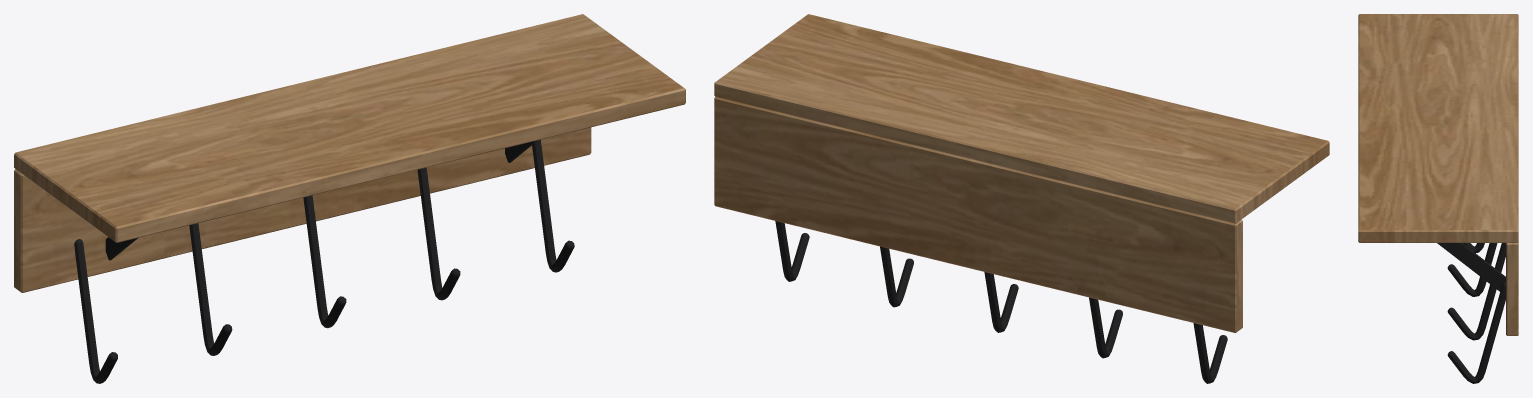
File: perchero_pared_80.glb
3 views of the same model, side by side, from view 1: azimuth 30°, elevation 25°; view 2: azimuth 150°, elevation 25°; view 3: azimuth 270°, elevation 25° (orthographic). The views are drawn at different scales.
Visible parts, largest first — view 1: perchero_pared_80; view 2: perchero_pared_80; view 3: perchero_pared_80.
Boxes of the visible parts, x1,y1,x2,y2 form: perchero_pared_80: [14, 14, 685, 383]; perchero_pared_80: [714, 14, 1329, 383]; perchero_pared_80: [1358, 14, 1518, 383].
Bounding box in the file's own units: 0.8 × 0.3003 × 0.25.
2 materials, 1 textured.
